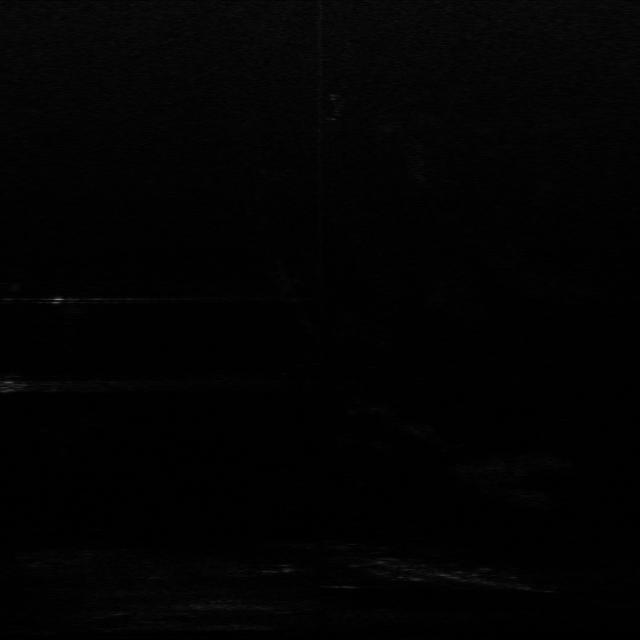rov: (0, 380, 16, 395)
